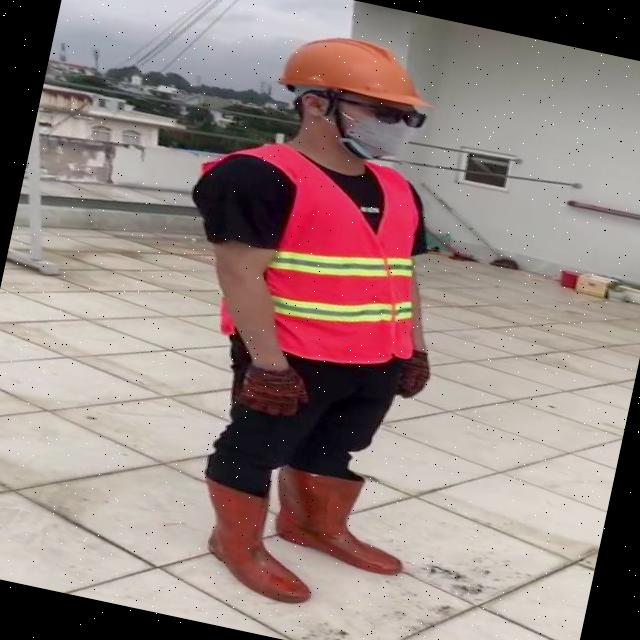boots: (261, 462, 424, 578), (188, 482, 330, 608)
